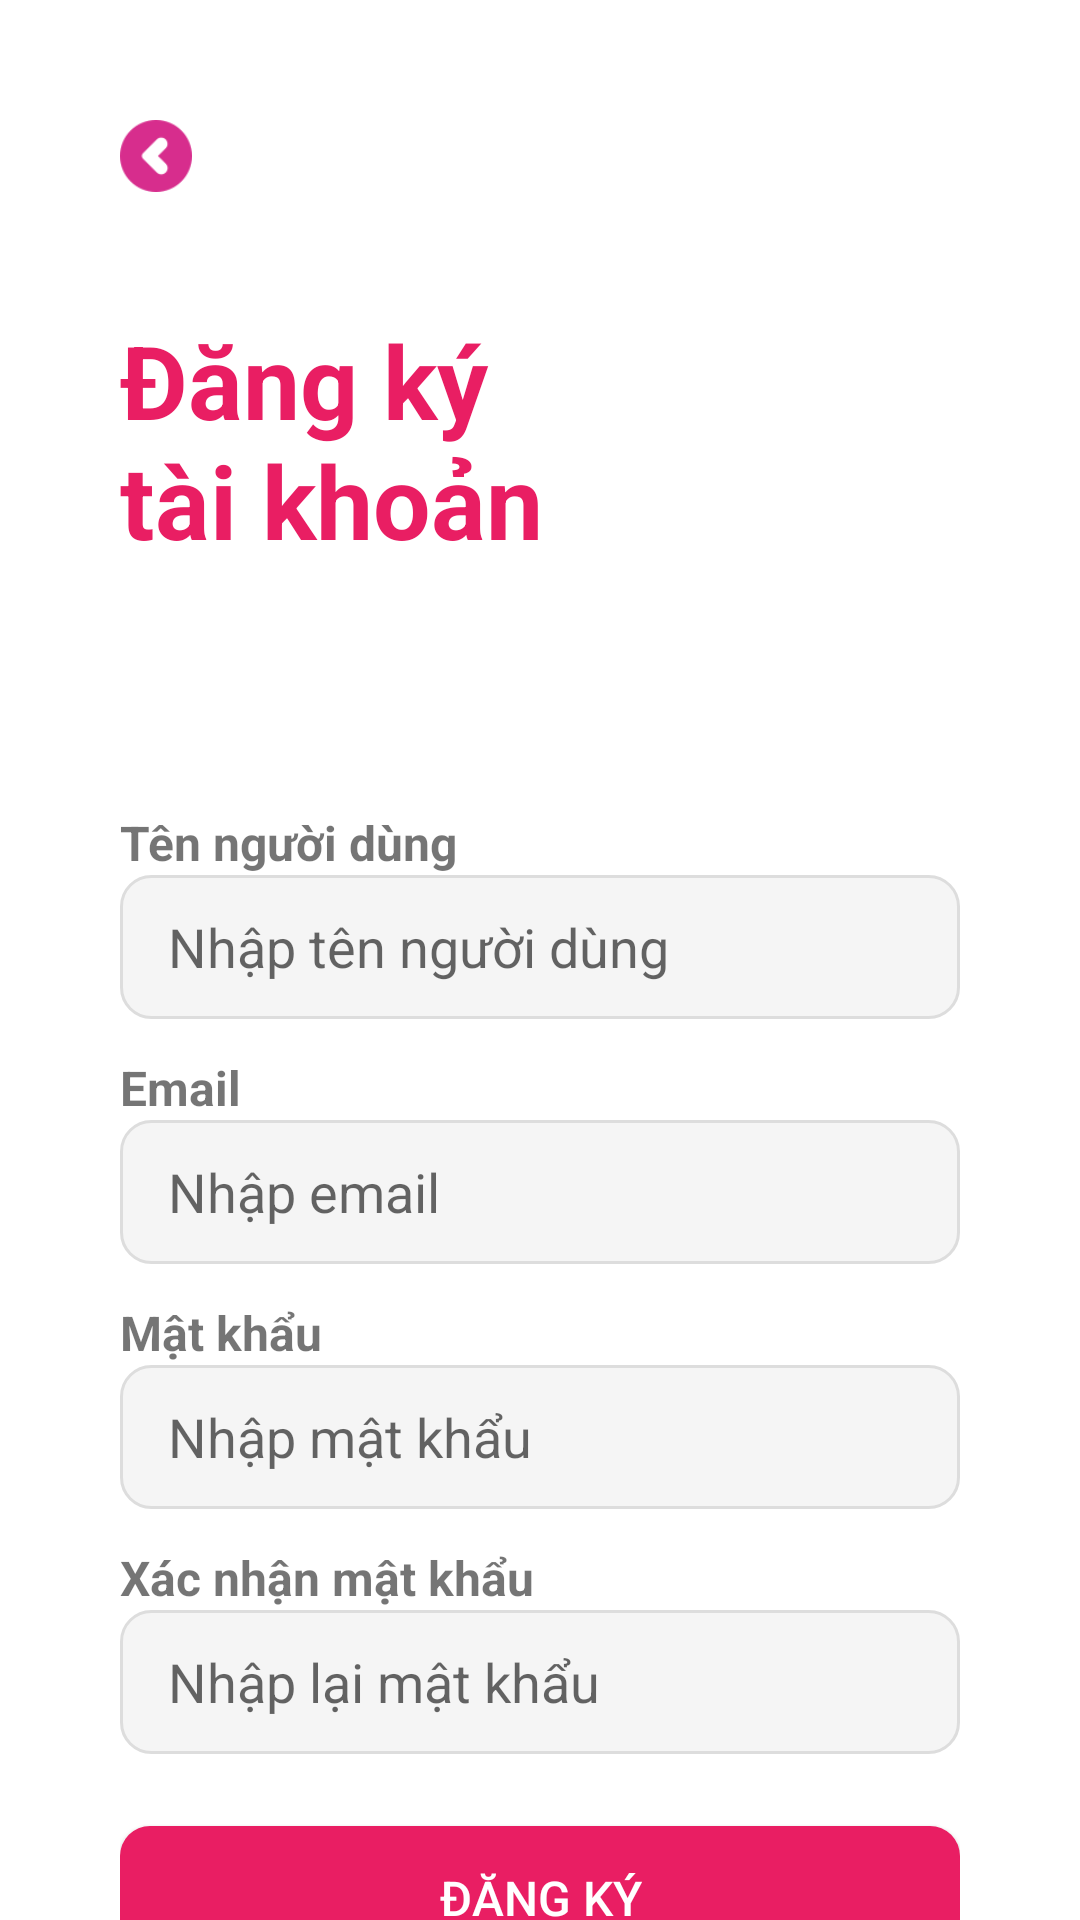

Point at icon controls on the screen. Image size 1080px x 1920px, points as (x=x, y=y).
back: (x=156, y=156)
